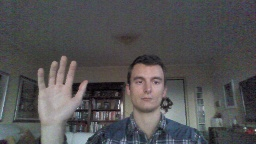Mano_aperta: (35, 54, 88, 126)
